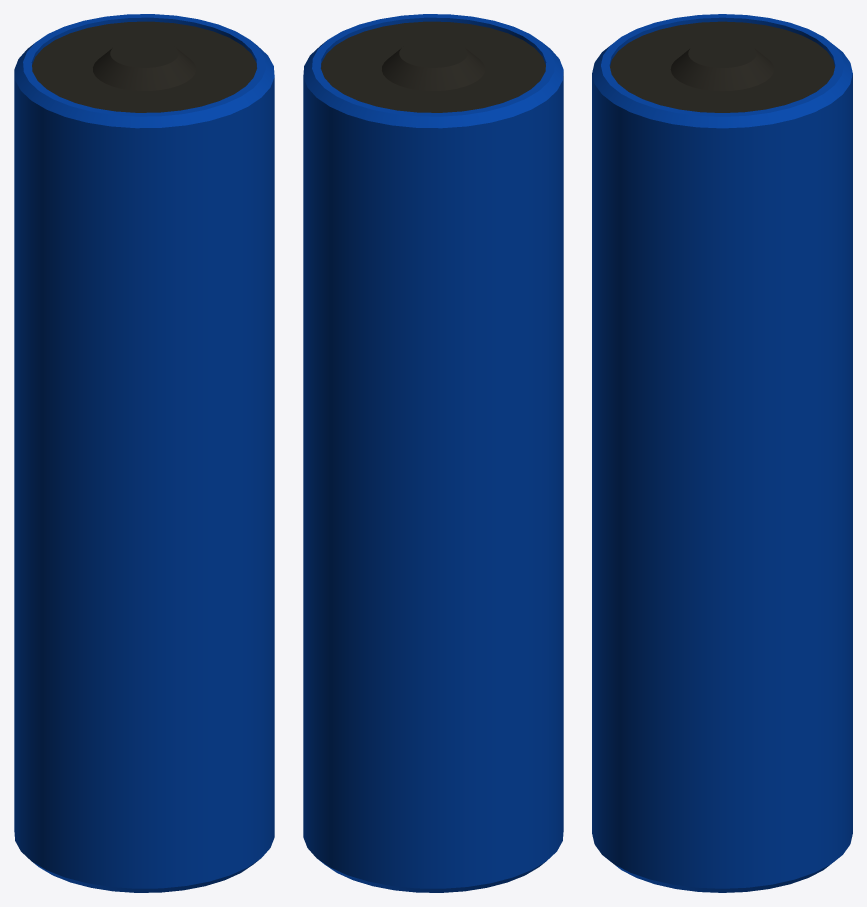
File: Battery.fbx
3 views of the same model, side by side, from view 1: azimuth 30°, elevation 25°; view 2: azimuth 150°, elevation 25°; view 3: azimuth 270°, elevation 25° (orthographic).
Parts seen in each view (by area): view 1: Battery; view 2: Battery; view 3: Battery.
Boxes of the visible parts, left/top/right/bottom form: Battery: left=14, top=14, right=274, bottom=892; Battery: left=303, top=14, right=563, bottom=892; Battery: left=592, top=14, right=852, bottom=892.
Size of the model in its own units: 1.5 by 5 by 1.5.
